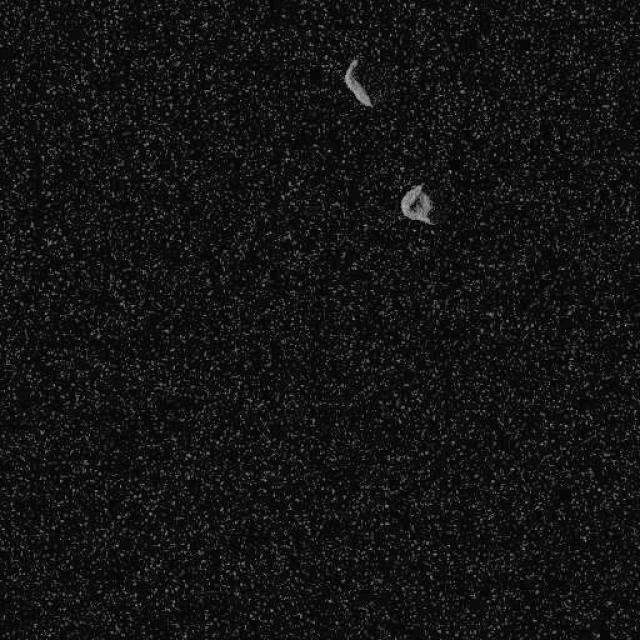D2: (398, 183, 434, 225), (342, 58, 372, 108)
